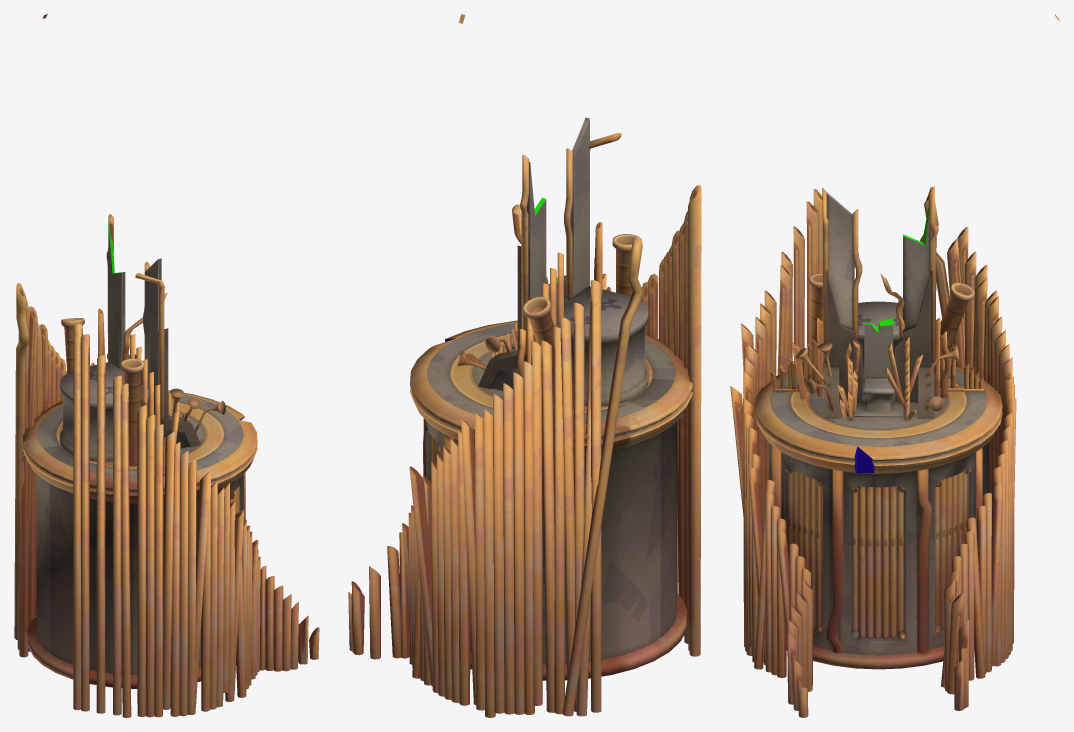
Rendered from SM_Throne_broken.fbx.
3 views of the same model, side by side, from view 1: azimuth 30°, elevation 25°; view 2: azimuth 150°, elevation 25°; view 3: azimuth 270°, elevation 25° (orthographic). The views are drawn at different scales.
Parts seen in each view (by area): view 1: SM_Throne_broken; view 2: SM_Throne_broken; view 3: SM_Throne_broken.
Boxes of the visible parts, x1,y1,x2,y2 form: SM_Throne_broken: (14,14,319,717); SM_Throne_broken: (348,14,701,717); SM_Throne_broken: (730,14,1059,717).
Size of the model in its own units: 8.61 by 20.05 by 9.51.
5 materials, 3 textured.
